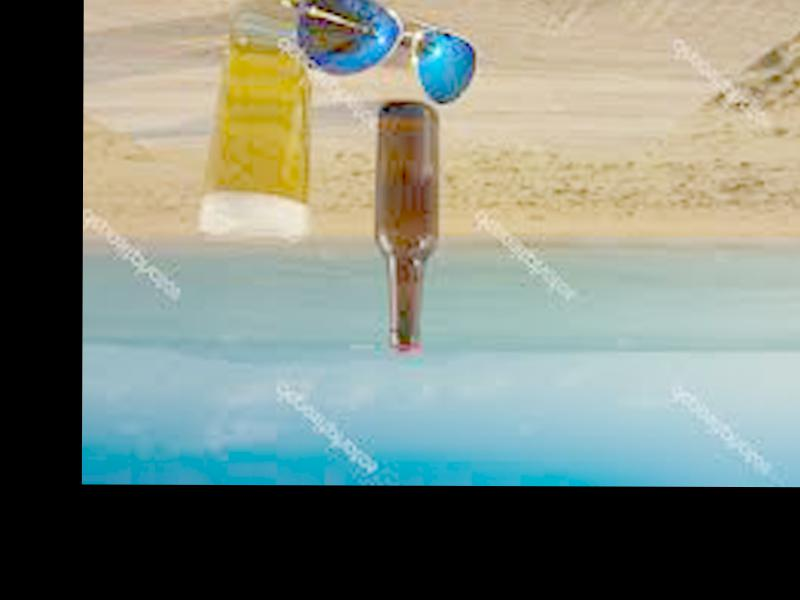Beer: (374, 103, 439, 354)
